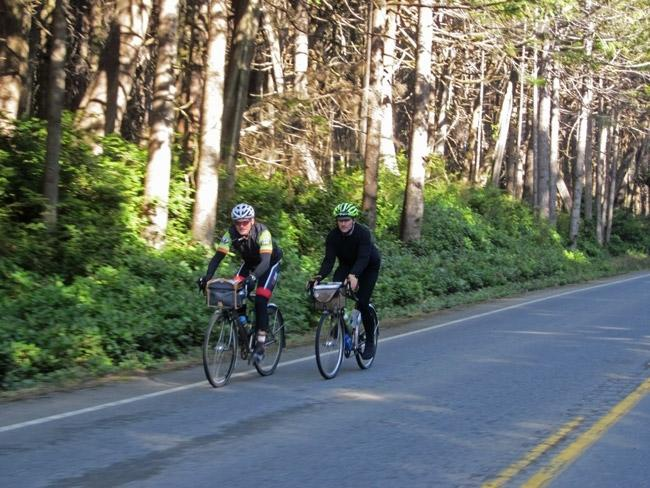non-vehicle: (195, 278, 285, 385), (306, 275, 380, 381)
